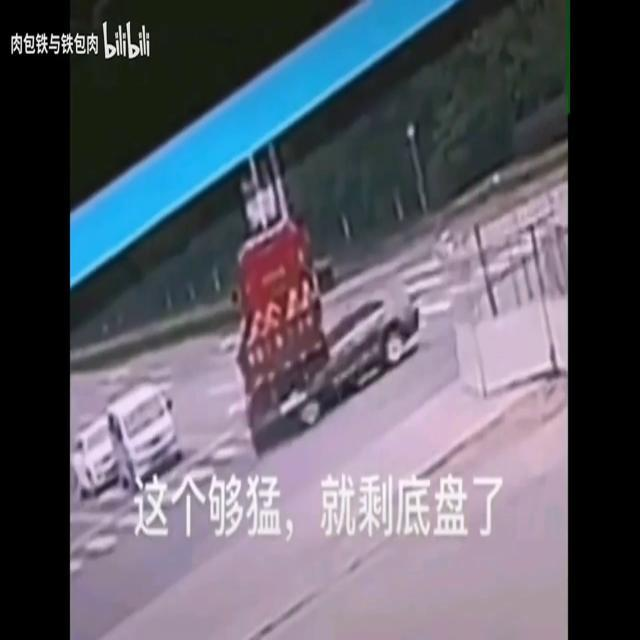multiple_accident: (211, 233, 467, 476)
normal: (47, 387, 250, 546)
